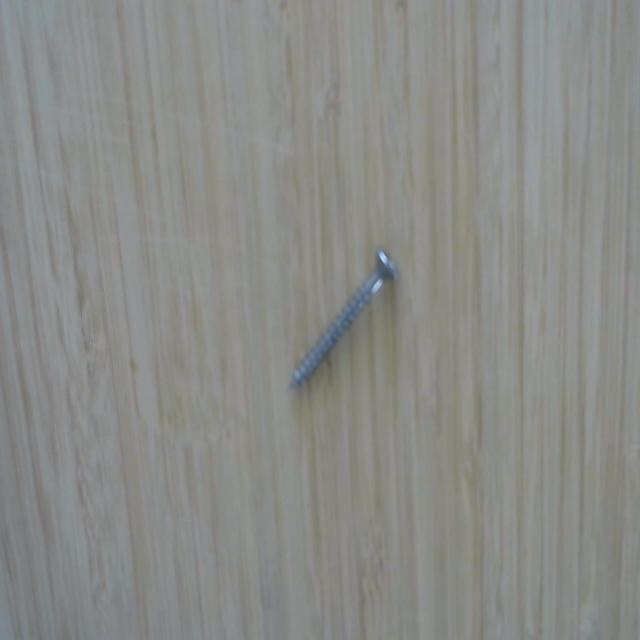Black screw: (280, 239, 410, 403)
